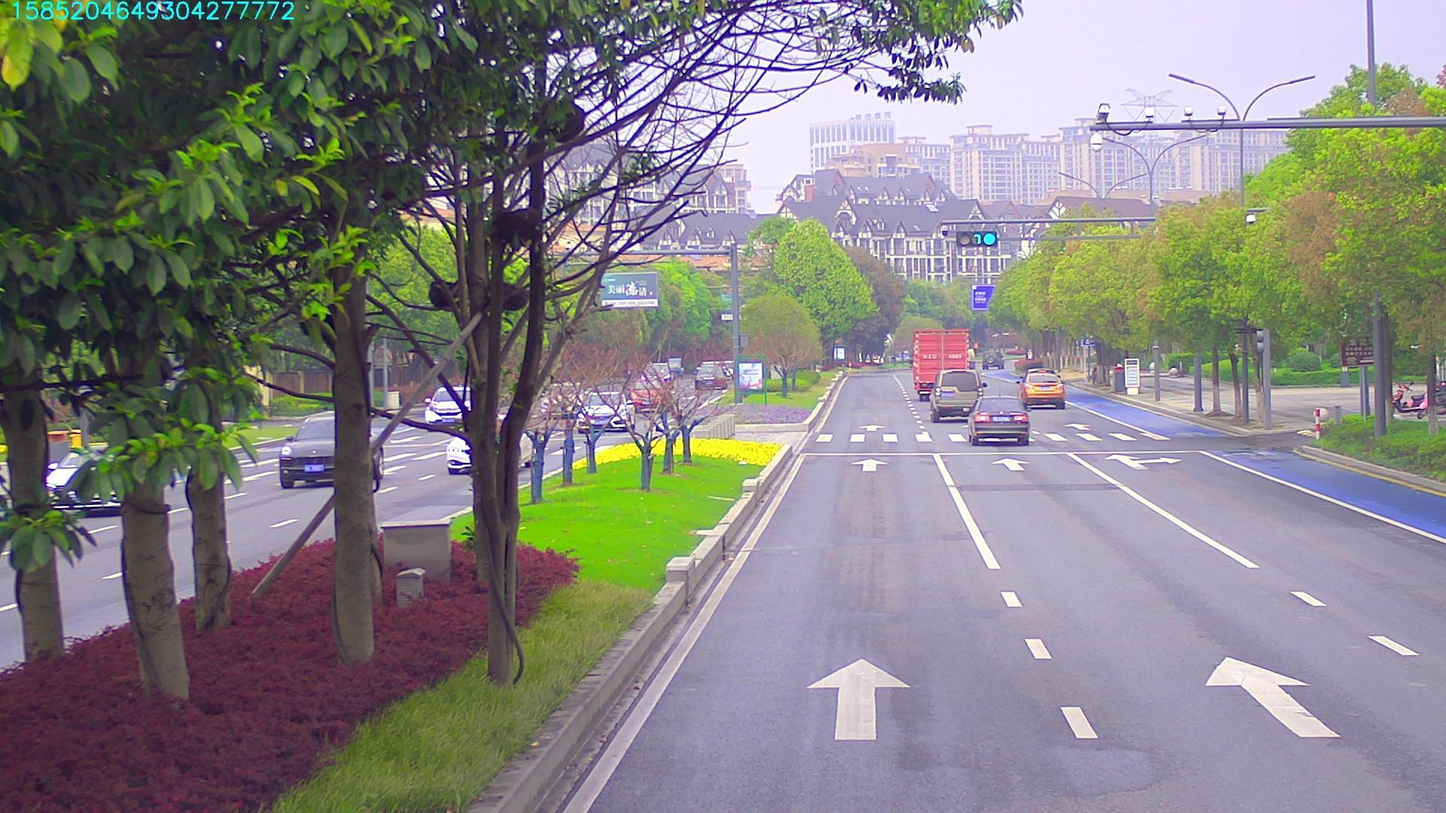green: (959, 233, 999, 244)
